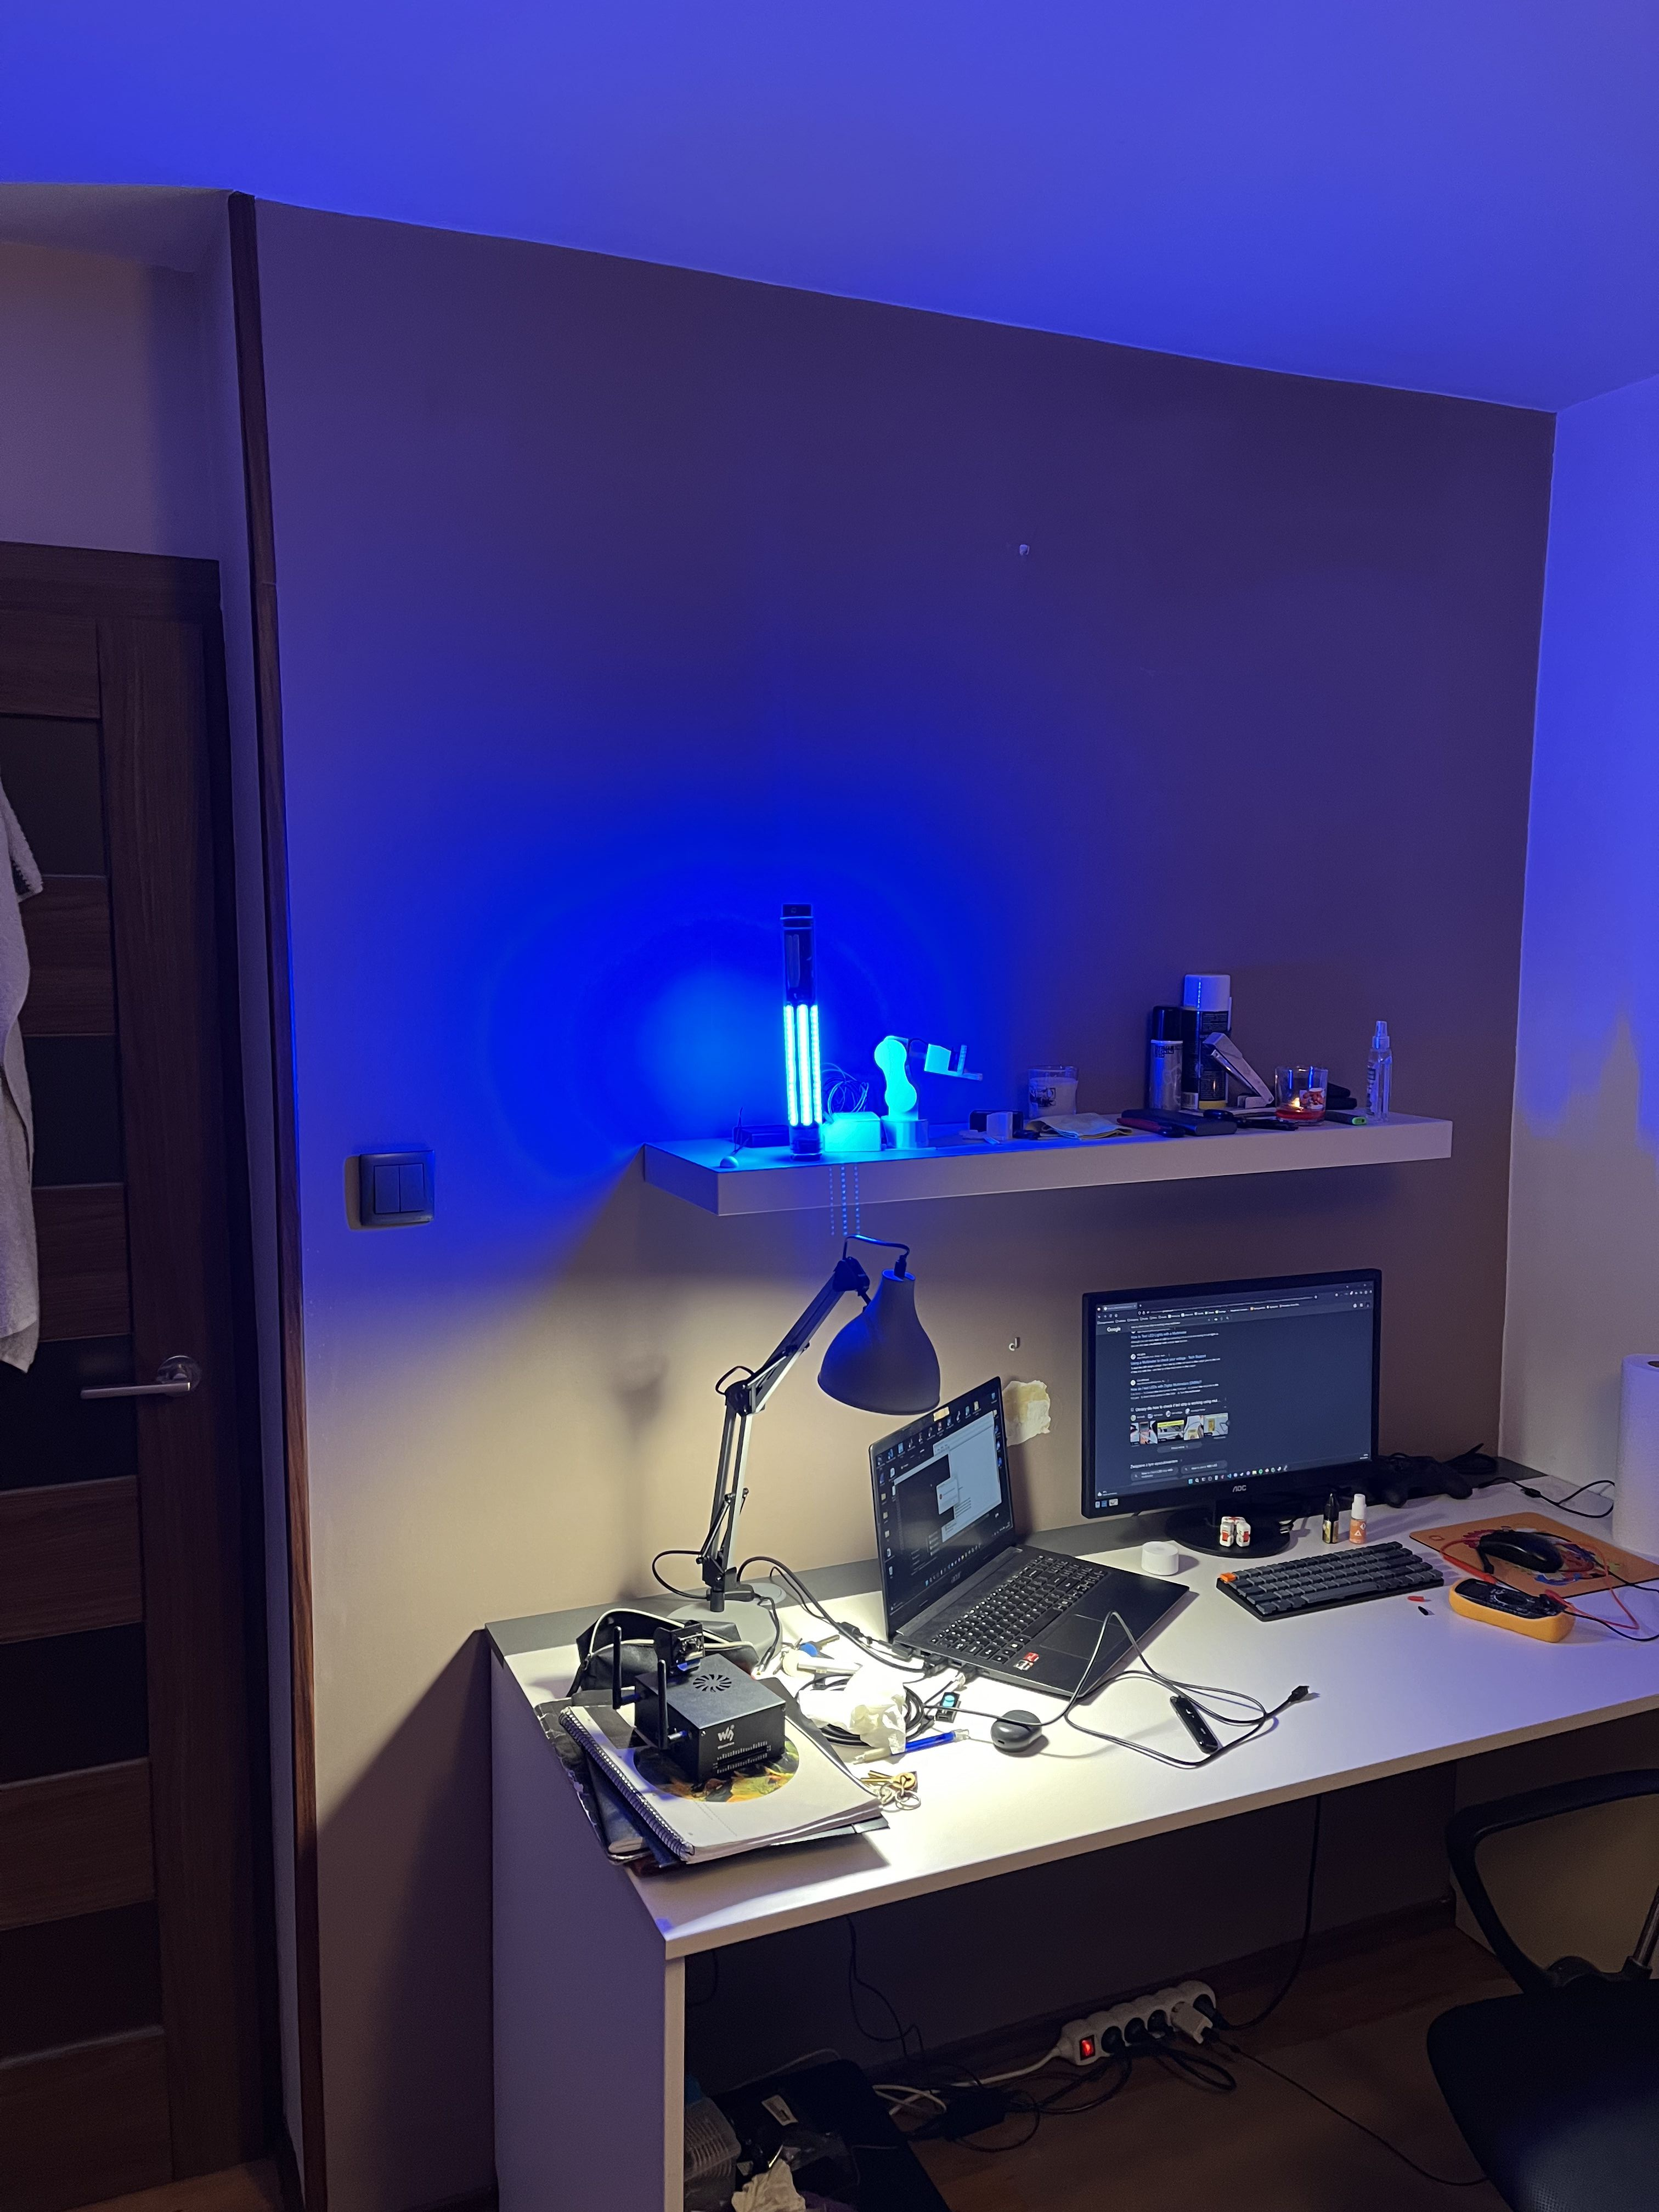blue: (779, 927, 828, 1155)
